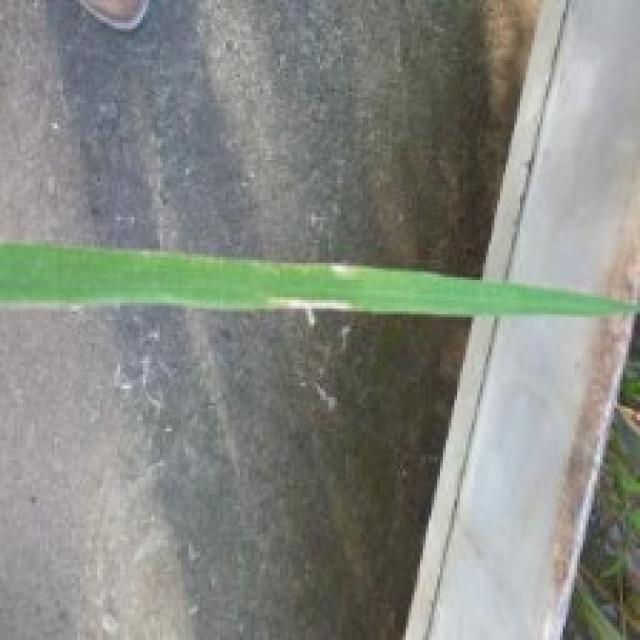Rice___Bacterial_Leaf_Blight: (0, 239, 637, 317)
